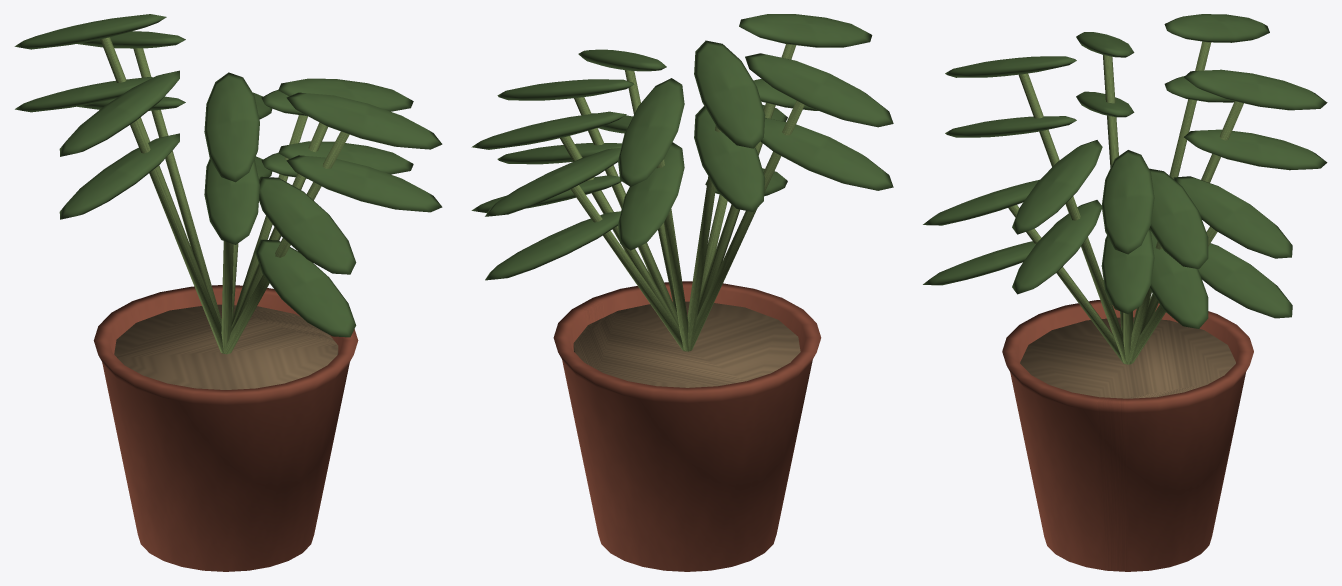
File: potted_plant.glb
The picture shows the model from 3 angles, left to right: view 1: azimuth 30°, elevation 25°; view 2: azimuth 150°, elevation 25°; view 3: azimuth 270°, elevation 25°; orthographic projection. The views are drawn at different scales.
Visible parts, largest first — view 1: potted_plant_Mesh; view 2: potted_plant_Mesh; view 3: potted_plant_Mesh.
Boxes of the visible parts, x1,y1,x2,y2 form: potted_plant_Mesh: (14, 14, 442, 571); potted_plant_Mesh: (471, 14, 893, 571); potted_plant_Mesh: (923, 14, 1327, 571).
Size of the model in its own units: 0.3416 by 0.4491 by 0.3376.
Materials: 4 (4 with a texture image).
